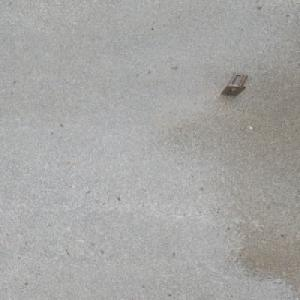MetalPart: (219, 72, 249, 96)
